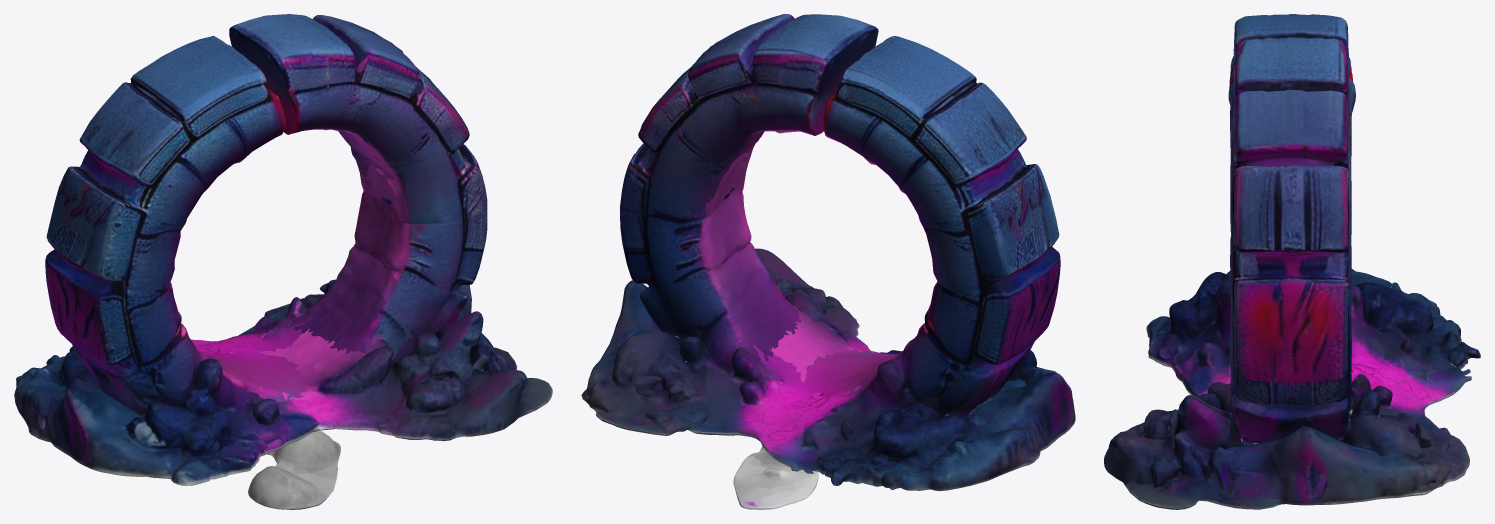
File: broken-ring-generated-2026-05-17T21-02-15-898Z.medium.glb
The picture shows the model from 3 angles, left to right: view 1: azimuth 30°, elevation 25°; view 2: azimuth 150°, elevation 25°; view 3: azimuth 270°, elevation 25°; orthographic projection.
Parts seen in each view (by area): view 1: temp_mesh.ply; view 2: temp_mesh.ply; view 3: temp_mesh.ply.
Boxes of the visible parts, left/top/right/bottom form: temp_mesh.ply: left=14, top=14, right=552, bottom=509; temp_mesh.ply: left=581, top=14, right=1075, bottom=509; temp_mesh.ply: left=1104, top=14, right=1480, bottom=509.
Size of the model in its own units: 1.96 by 1.83 by 1.45.
Materials: 1 (1 with a texture image).
